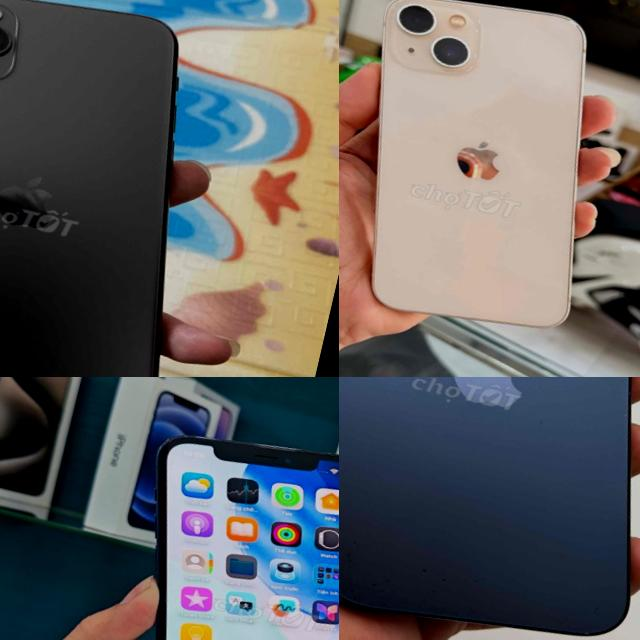gen_11: (0, 0, 177, 377)
gen_12_13: (339, 0, 631, 348), (85, 411, 339, 640)
gen_15: (339, 377, 640, 640)
